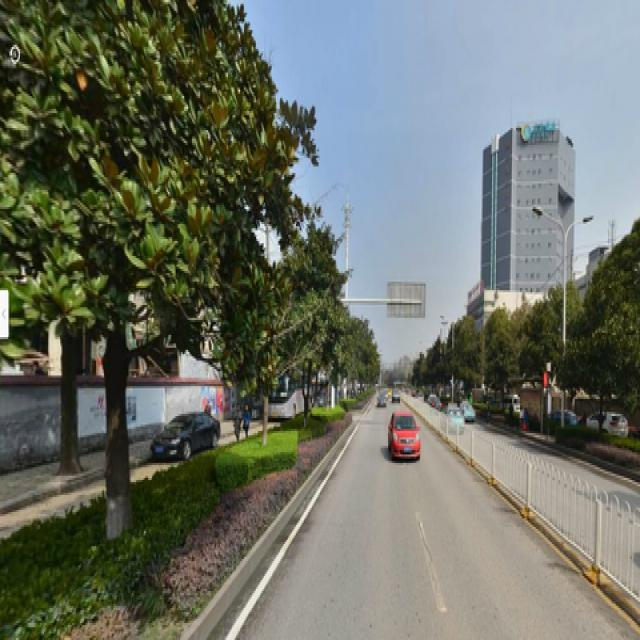magn: (2, 2, 270, 533)
